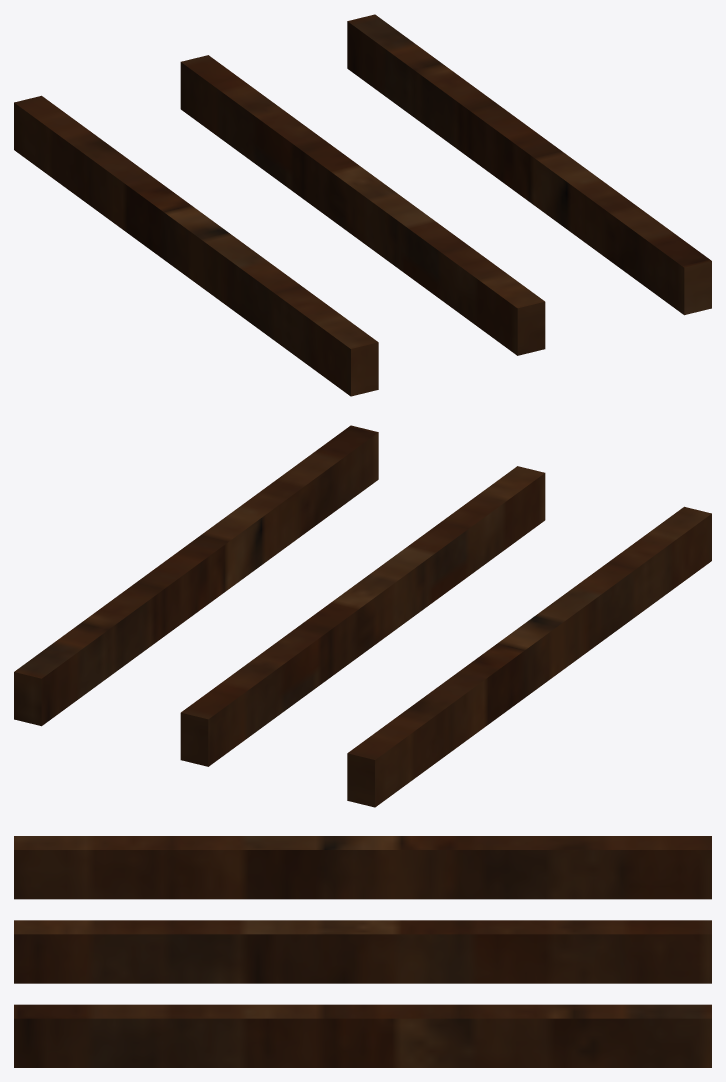
Rendered from Model_CeilingRafters.glb.
The picture shows the model from 3 angles, top to bottom: view 1: azimuth 30°, elevation 25°; view 2: azimuth 150°, elevation 25°; view 3: azimuth 270°, elevation 25°; orthographic projection. The views are drawn at different scales.
Parts seen in each view (by area): view 1: CeilingRafters; view 2: CeilingRafters; view 3: CeilingRafters.
Part boxes in pixels (x1=…): CeilingRafters: x1=14, y1=14, x2=711, y2=396; CeilingRafters: x1=14, y1=425, x2=711, y2=807; CeilingRafters: x1=14, y1=836, x2=711, y2=1067.
Bounding box in the file's own units: 1.24 × 0.1556 × 2.
Materials: 1 (1 with a texture image).
